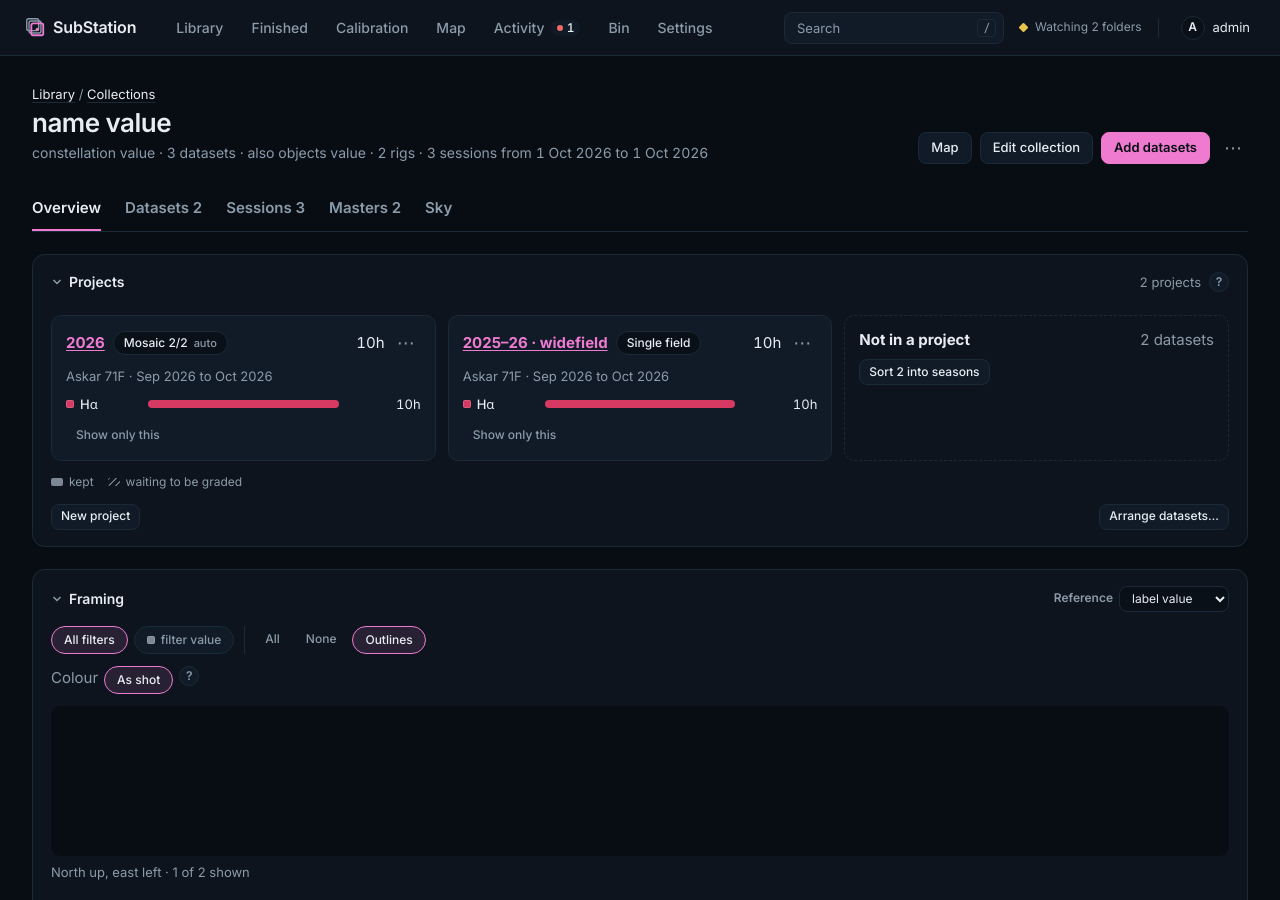
Test: Projects panel (amendment 2026-10-22) › sorts the datasets not in a project into seasons
Expected: the link "2025–26 · widefield" is shown, 463,333 -> 608,352
Expected: the button named "More for 2025–26 · widefield" is shown, 787,328 -> 817,358
Click the button "Sort 2 into seasons".
click(924, 372)  # box 859,359 -> 990,385
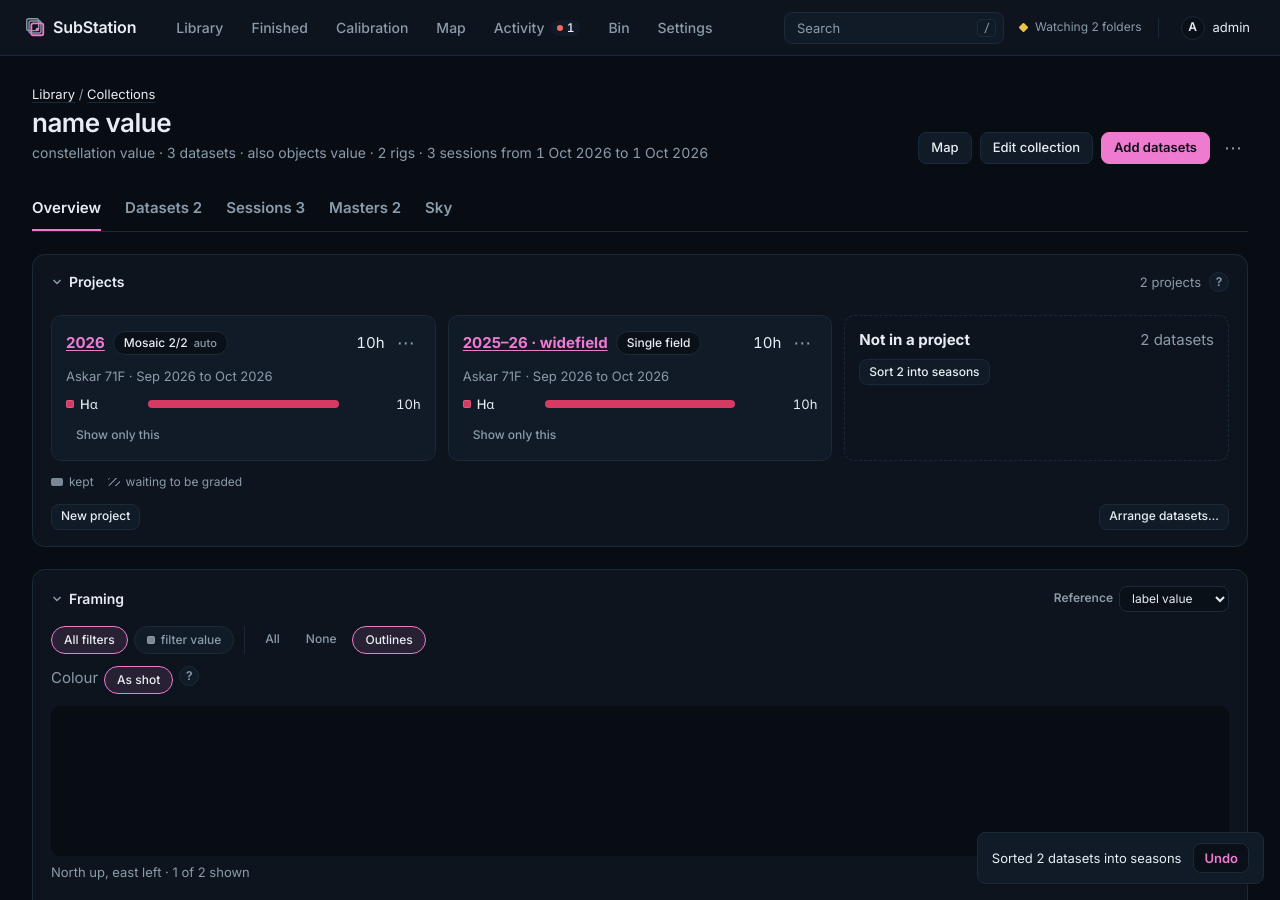
Now the button "Undo" is shown, box 1193,843 -> 1249,873
